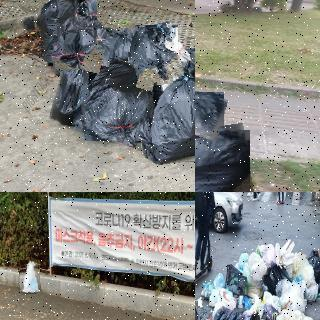Garbage: (78, 57, 153, 145), (137, 59, 195, 163), (54, 40, 109, 128), (195, 126, 252, 192), (128, 23, 181, 84), (54, 0, 97, 70), (36, 0, 77, 63), (195, 88, 226, 138), (111, 24, 143, 63), (294, 255, 320, 300), (19, 260, 41, 294), (249, 253, 270, 286), (304, 247, 320, 281)
